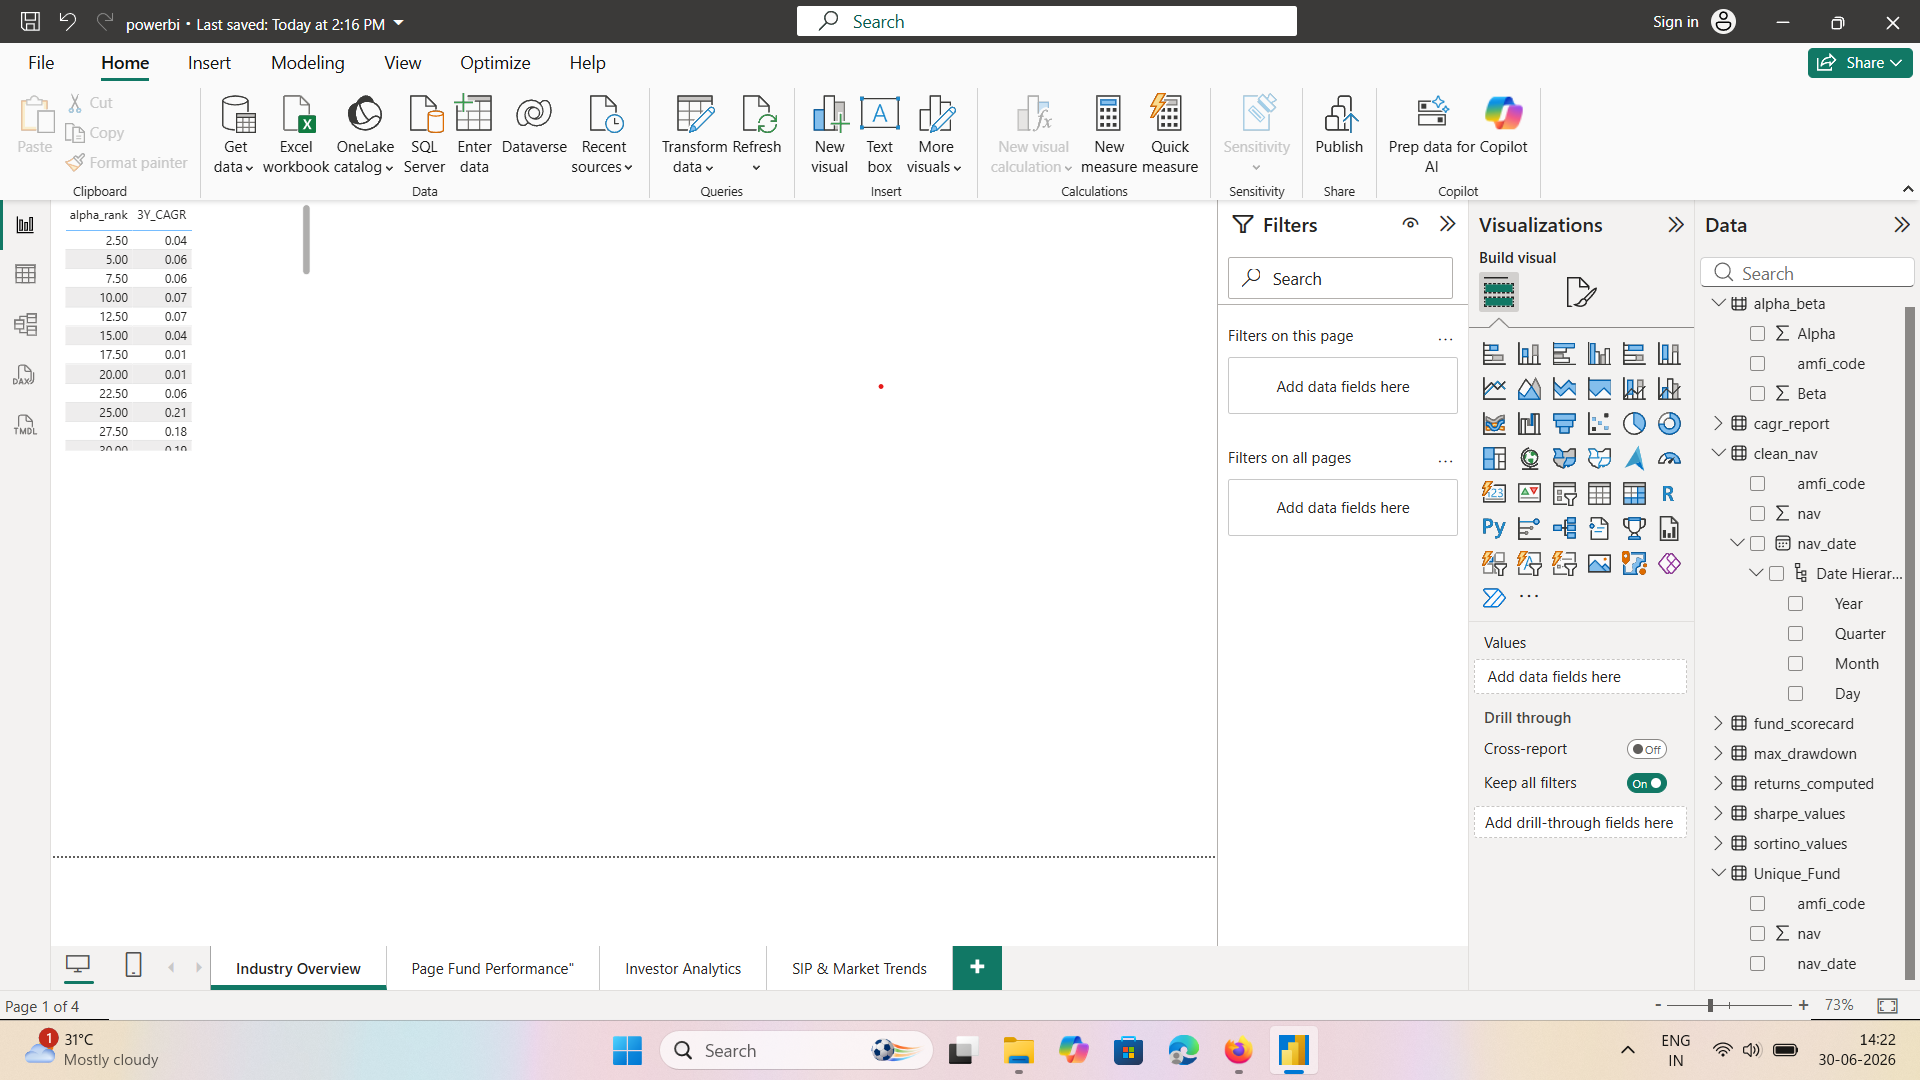

The page's visual inventory and layout, read from the dashboard file:
{"tool":"powerbi","page":{"name":"Industry Overview","canvas":[1280,720],"ordinal":0},"visuals":[{"type":"tableEx","fields":{"Values":["fund_scorecard.alpha_rank","fund_scorecard.3Y_CAGR"]},"box":[10,0,280,280],"z":0}]}

Visuals, with their boxes on the page's 1280x720 design canvas (x1, y1, x2, y2). These are canvas units, not pixel positions in the 1920x1080 screenshot, which may show the page scaled, cropped or inside an application window:
tableEx - fund_scorecard.alpha_rank x fund_scorecard.3Y_CAGR: crop(10, 0, 290, 280)
